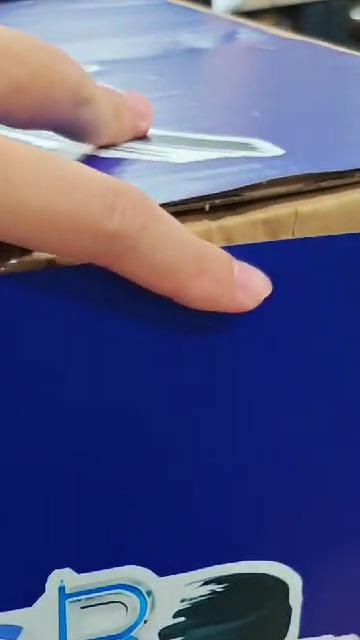B_R1: (0, 559, 360, 640)
